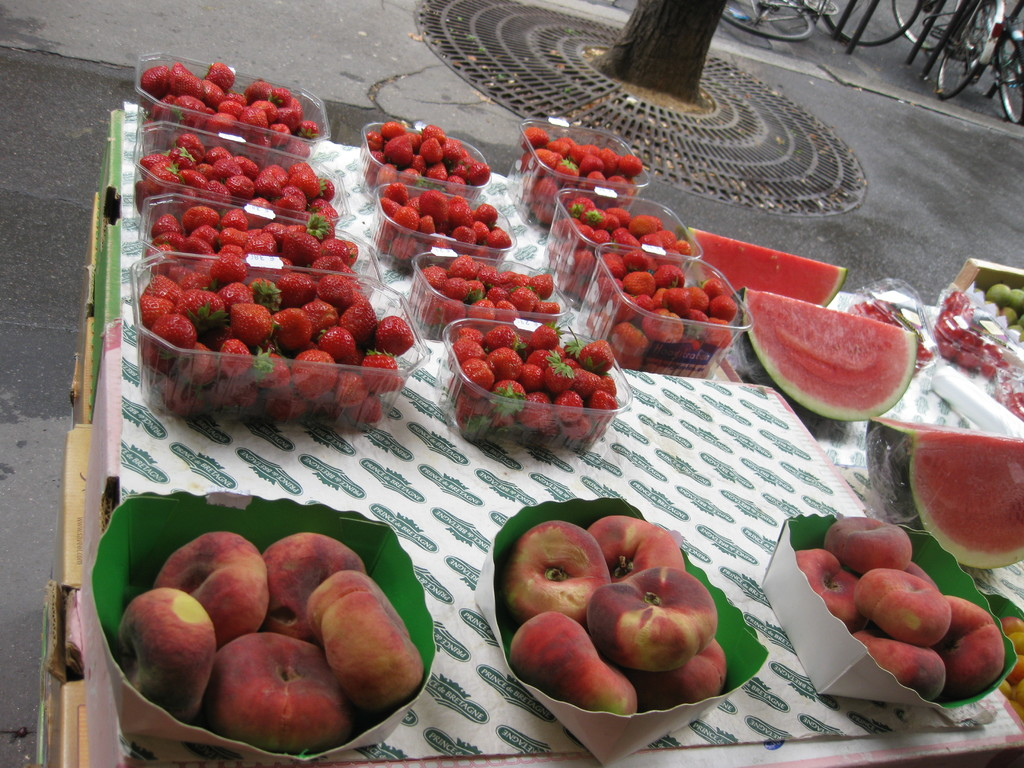Apple: (794, 513, 1006, 699), (207, 626, 353, 753), (305, 571, 425, 714), (585, 563, 718, 674), (115, 585, 216, 723), (152, 529, 269, 645), (263, 530, 366, 645), (499, 519, 614, 621), (519, 619, 616, 707), (627, 637, 725, 705), (586, 514, 687, 577)
